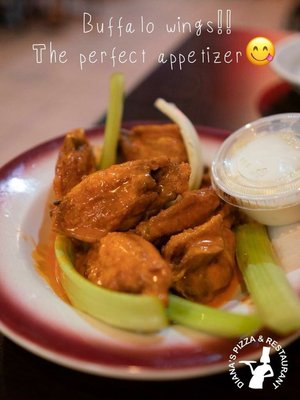pizza: (210, 112, 300, 227)
